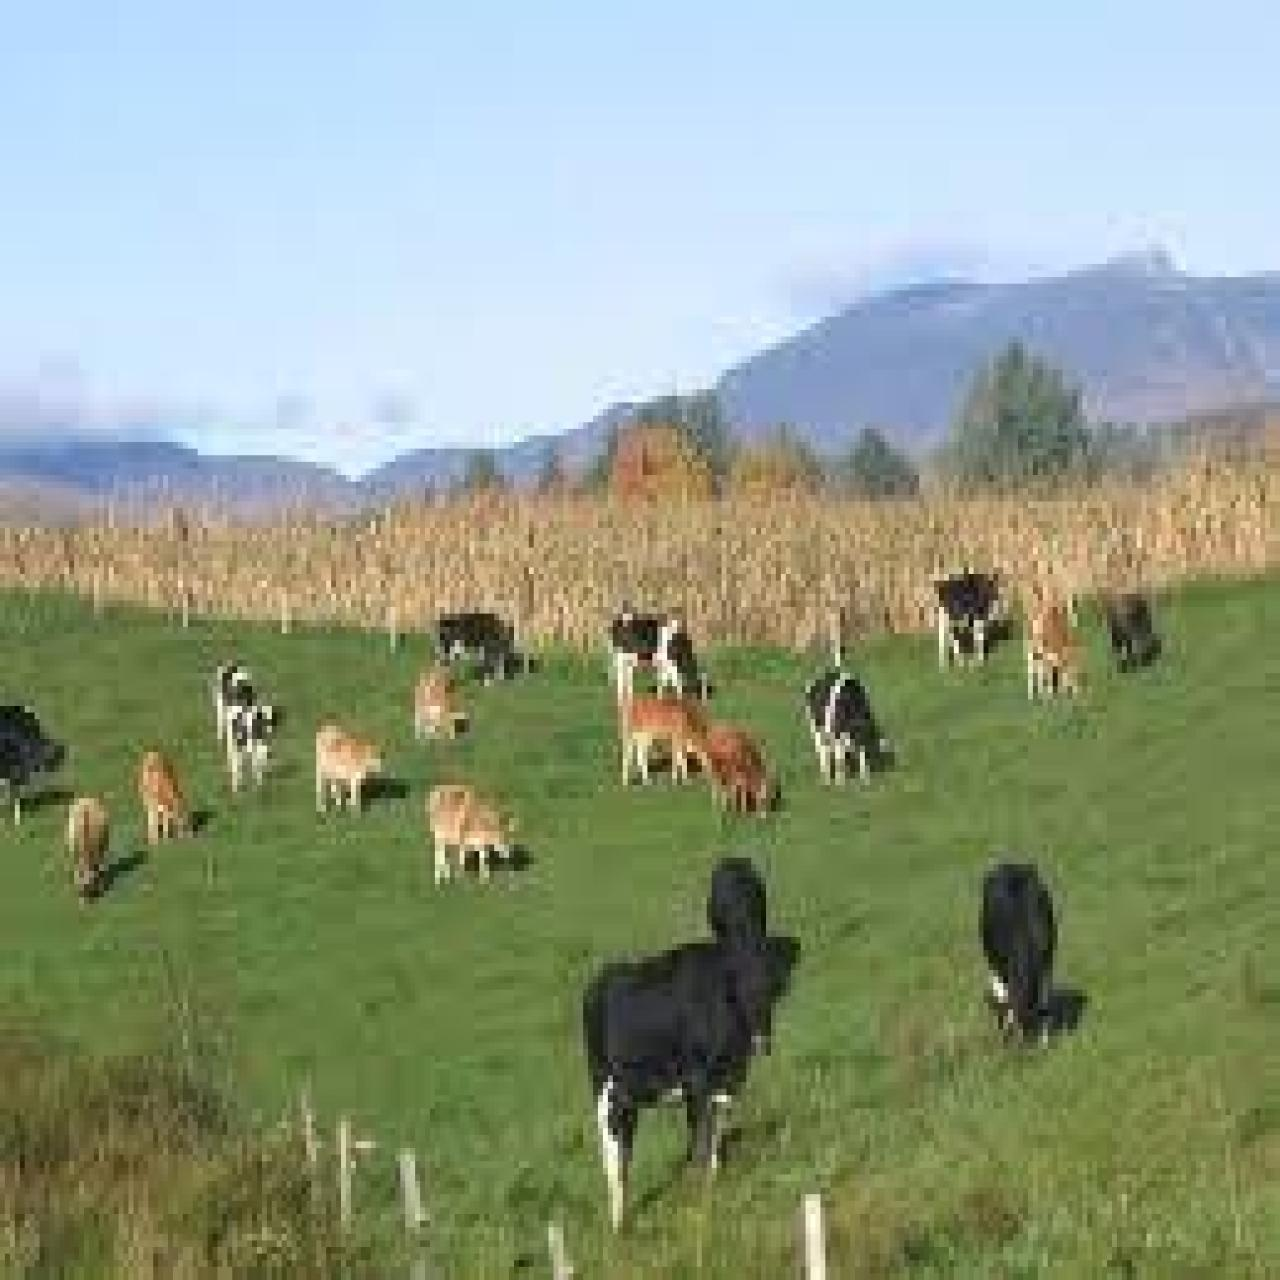cow: (580, 931, 798, 1247), (979, 865, 1062, 1042), (801, 670, 890, 782), (425, 789, 524, 887), (212, 653, 281, 791), (608, 617, 697, 696), (620, 703, 704, 782), (709, 720, 774, 812), (934, 574, 993, 673), (60, 791, 114, 897), (309, 733, 377, 811), (437, 611, 511, 682), (134, 745, 188, 838)
